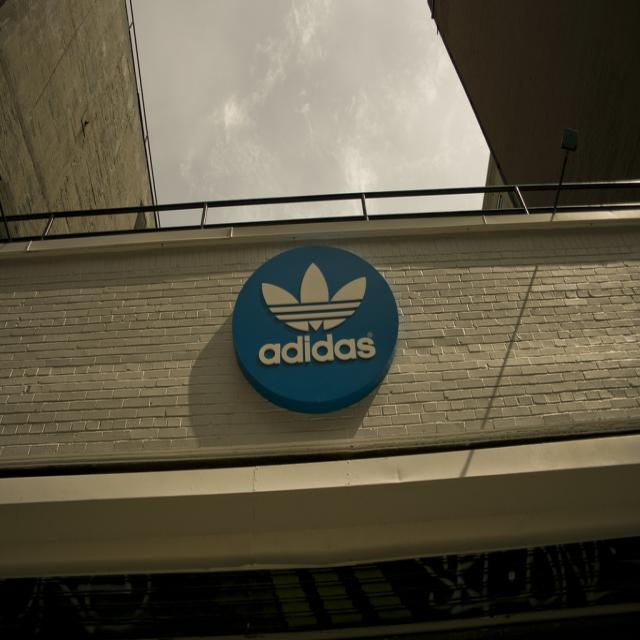adidas: (252, 254, 382, 373)
